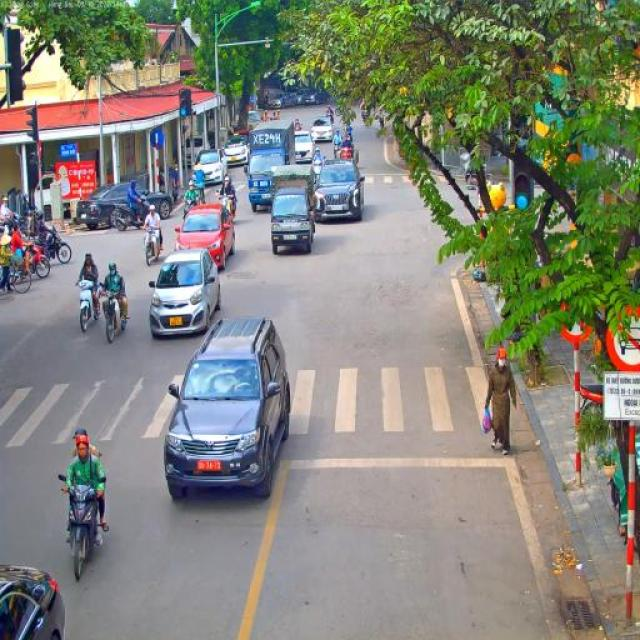car: (162, 314, 292, 500), (148, 248, 224, 338), (75, 182, 174, 232), (0, 564, 65, 638), (173, 203, 237, 271), (313, 158, 366, 222), (191, 149, 227, 185), (222, 133, 250, 168), (309, 116, 335, 144), (294, 130, 315, 164), (270, 92, 296, 109), (304, 88, 328, 104), (290, 90, 310, 106)
motorcycle: (57, 474, 102, 580), (99, 286, 130, 343), (12, 238, 52, 278), (74, 279, 102, 332), (111, 197, 150, 232), (42, 231, 72, 264), (141, 226, 161, 266), (217, 195, 237, 223), (182, 198, 199, 218), (193, 183, 207, 204), (314, 159, 324, 186), (338, 145, 354, 160), (332, 140, 342, 160), (324, 112, 334, 126), (363, 115, 372, 129), (335, 104, 344, 116), (378, 118, 384, 130)
truck: (244, 119, 298, 212), (269, 164, 316, 256), (236, 110, 262, 134)
